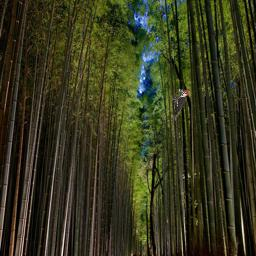Woodpecker: (170, 89, 190, 121)
